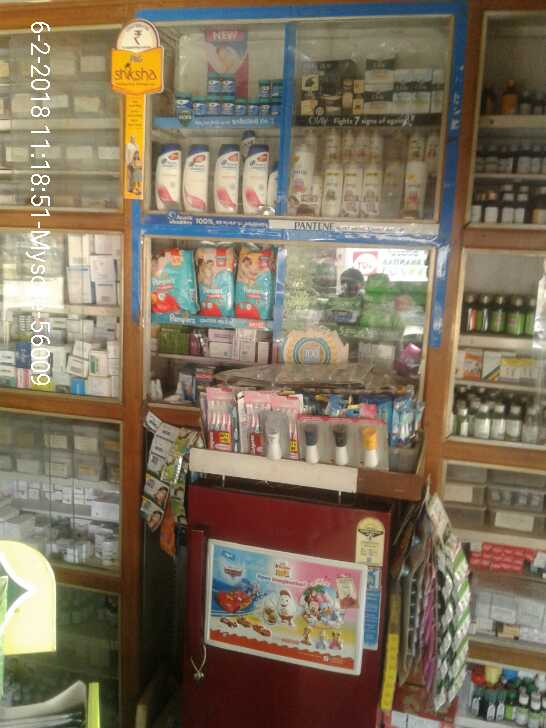beauty: (151, 143, 182, 212), (239, 142, 270, 210), (214, 142, 238, 216), (185, 137, 208, 213), (291, 148, 316, 212), (400, 159, 425, 220), (362, 71, 392, 119), (361, 161, 380, 219), (388, 66, 412, 110), (343, 160, 361, 218), (322, 162, 341, 216), (410, 69, 433, 111), (300, 74, 320, 116), (429, 65, 444, 110)
pharmacy: (235, 246, 276, 320), (150, 248, 195, 312), (196, 244, 234, 318), (172, 91, 190, 117), (204, 72, 221, 94), (190, 96, 205, 117), (220, 98, 236, 117), (220, 75, 235, 94), (205, 96, 220, 114), (245, 97, 257, 114), (233, 99, 245, 115), (257, 80, 268, 97), (258, 99, 267, 114), (272, 102, 278, 114)
